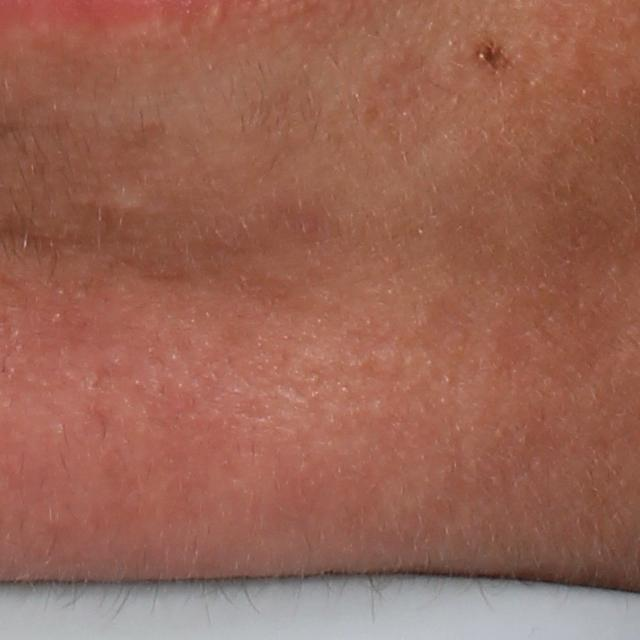hypertrophic_scar: (90, 174, 153, 215)
nevus: (473, 36, 514, 75)
